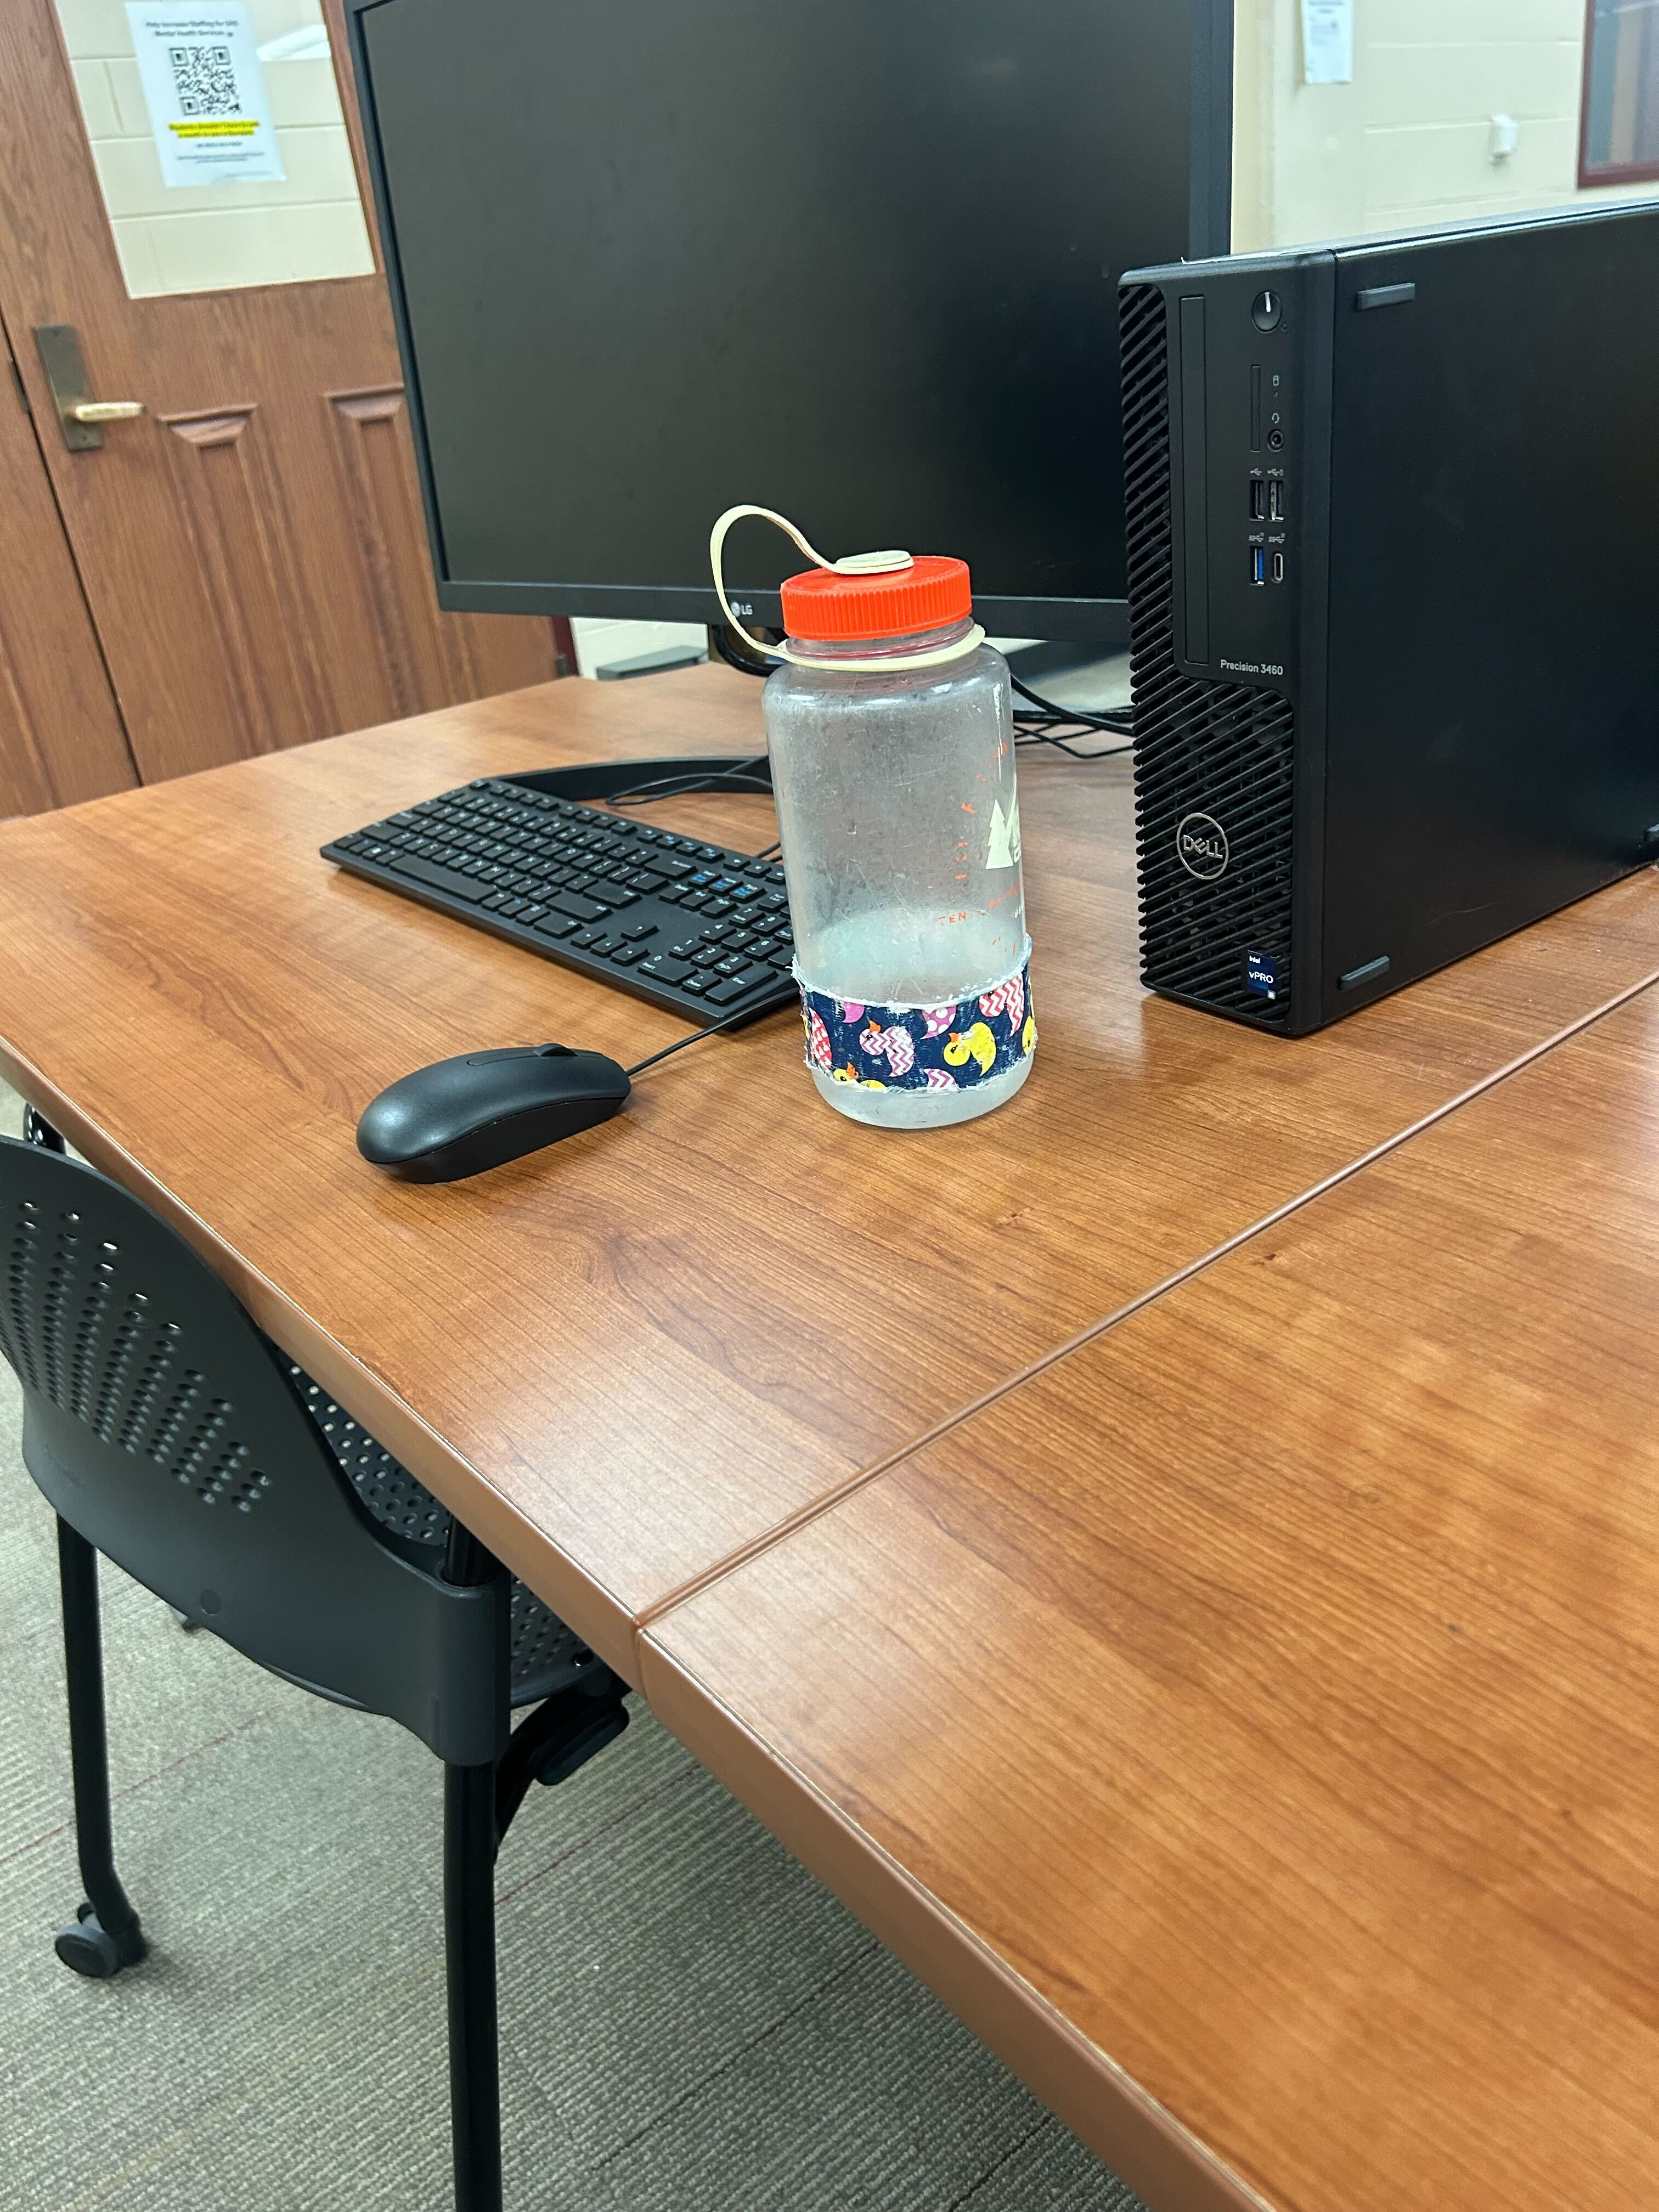bottle: (704, 491, 1042, 1141)
